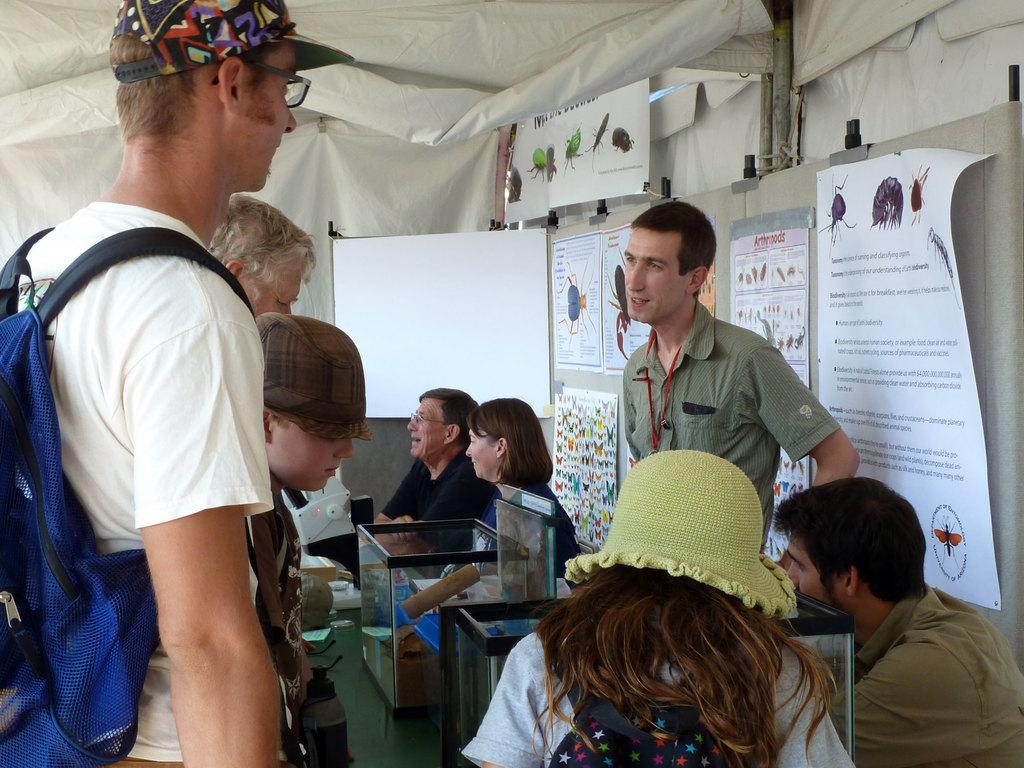Sem Máscara: (224, 40, 297, 191), (259, 409, 355, 505), (613, 220, 689, 323), (231, 244, 308, 311), (782, 530, 839, 613), (399, 396, 449, 457), (458, 421, 501, 482)
